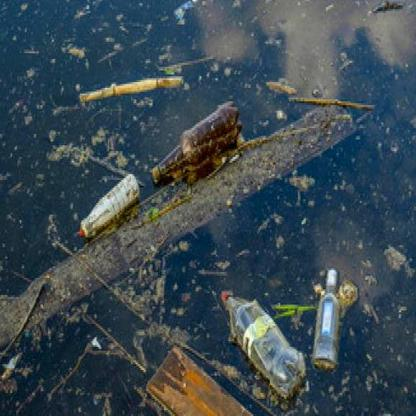plastic bottle: (219, 290, 305, 393), (77, 175, 142, 240), (313, 267, 342, 370)
